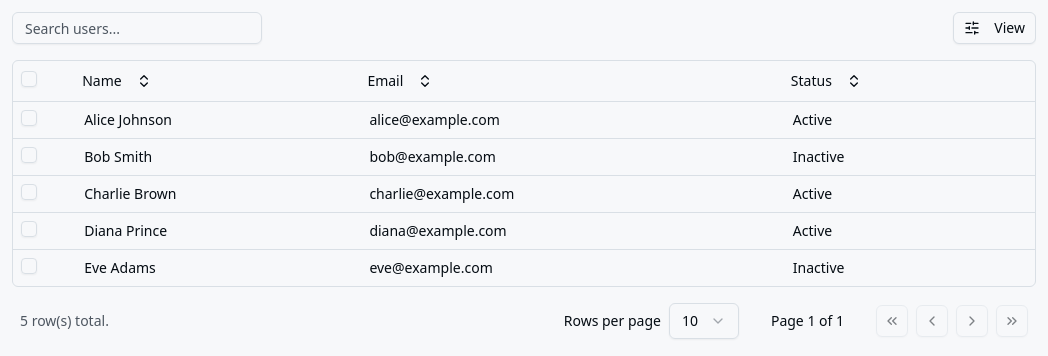
Test: DataTable › Filtering › should filter data based on search input
// Type in search input
Type "Alice" into the field with placeholder "Search users..." at (137, 28), box top-left (12, 12), bottom-right (262, 44)
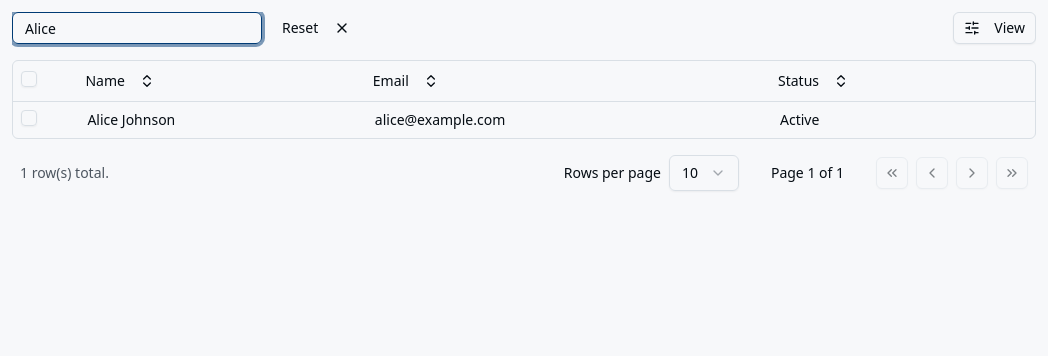
Expected: the text "Alice Johnson" is shown, top-left (79, 101), bottom-right (367, 138)
Result: the text "Bob Smith" is gone
Result: the text "Charlie Brown" is gone
